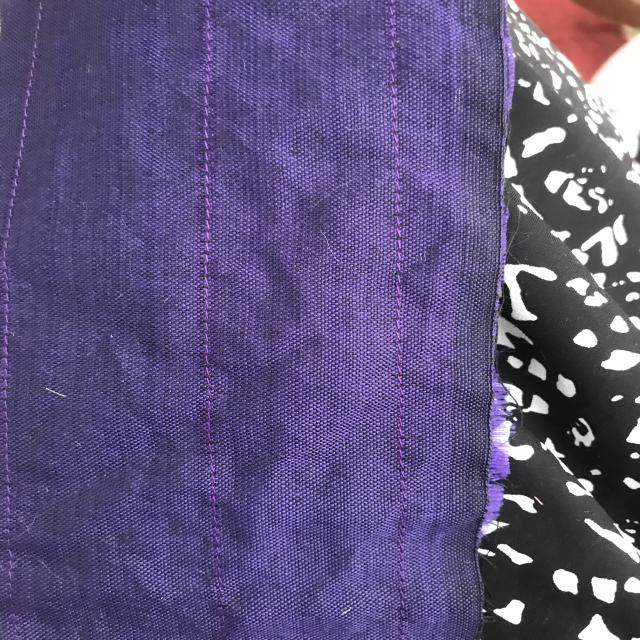good: (188, 276, 234, 448), (19, 35, 50, 139), (192, 152, 216, 252)
